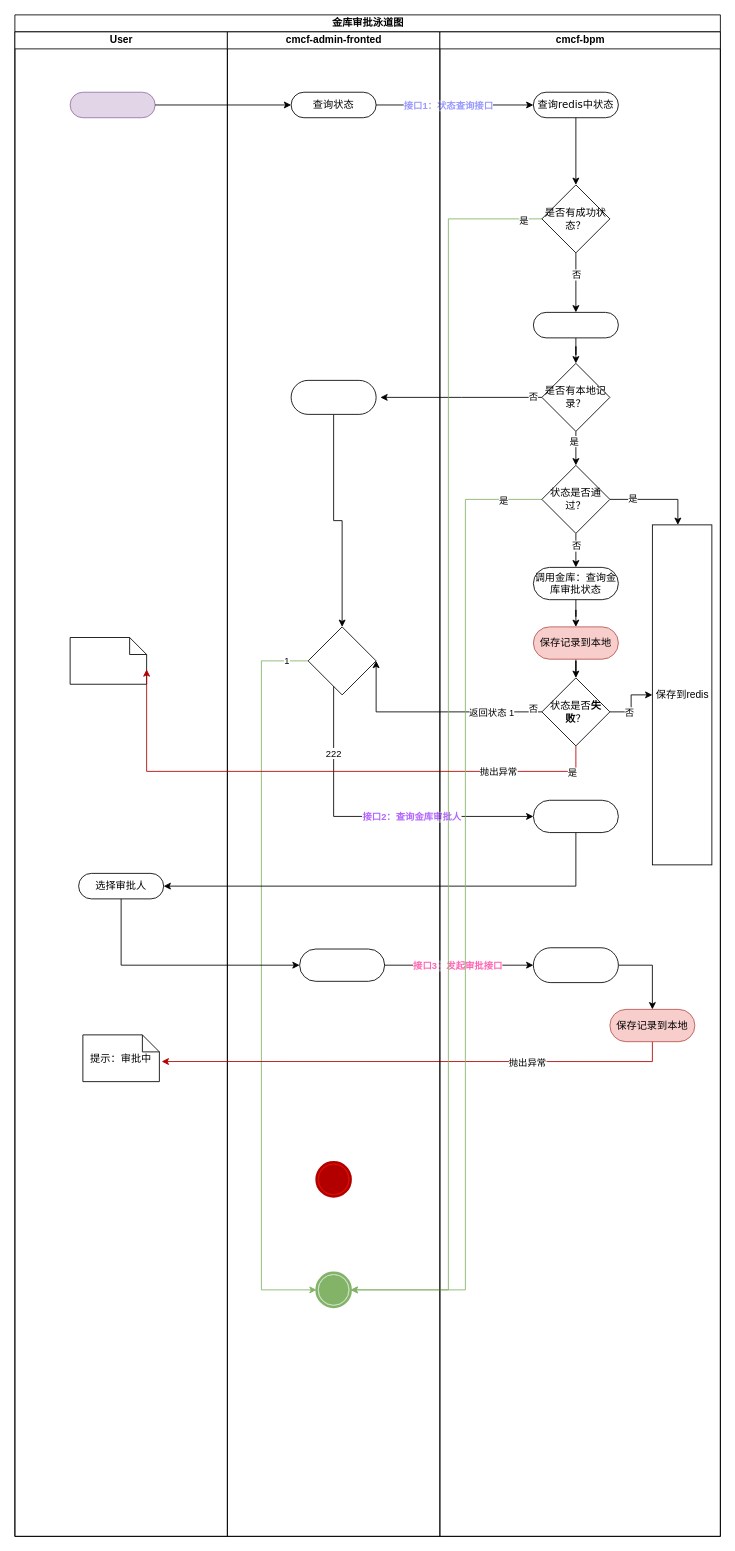
This 735x1551 diagram has some shape labels left out. Here are the shapes that lost their labels. From the top down, the centre of each, then its label:
At point (112, 104): "点击/访问".
At point (575, 325): "查询本地记录".
At point (333, 397): "返回无纪录状态暂定：222".
At point (108, 660): "提示：审批中/超时/失败".
At point (341, 660): "状态是1还是222？".
At point (575, 816): "调用金库：查询金库审批人".
At point (342, 964): "发起审批".
At point (575, 965): "调用金库：发起审批".
